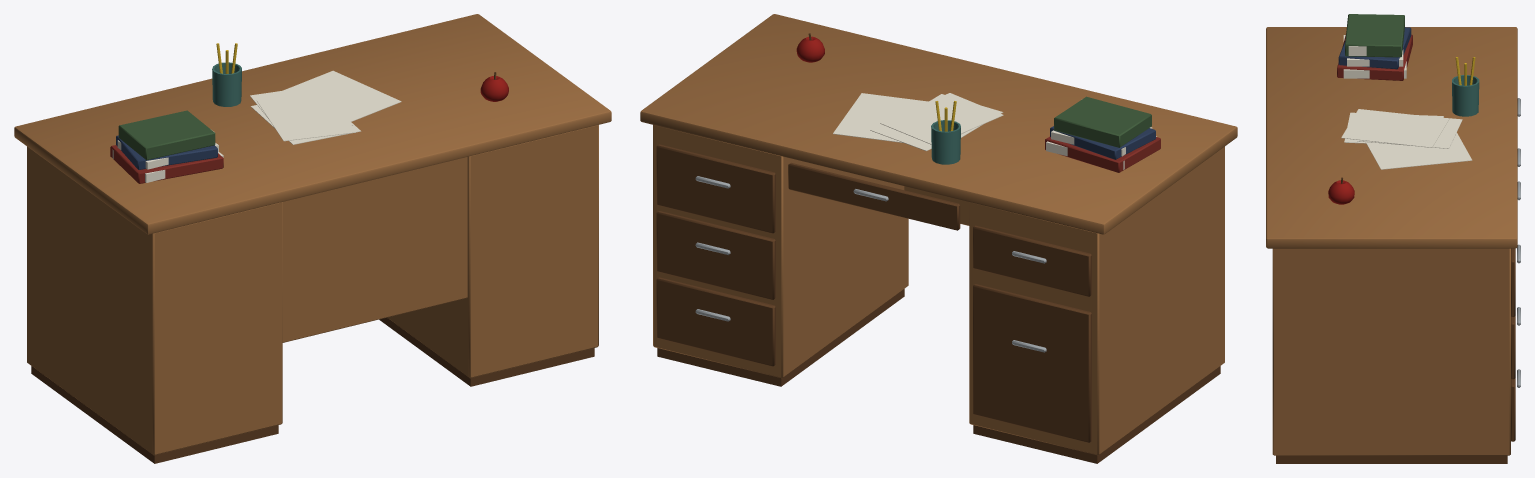
Rendered from teacher_desk.glb.
3 renders of one model, left to right at view 1: azimuth 30°, elevation 25°; view 2: azimuth 150°, elevation 25°; view 3: azimuth 270°, elevation 25°, orthographic. The views are drawn at different scales.
Parts seen in each view (by area): view 1: TeacherDesk; view 2: TeacherDesk; view 3: TeacherDesk.
Boxes of the visible parts, <box> form: TeacherDesk: <box>14,14,611,463</box>; TeacherDesk: <box>640,14,1237,463</box>; TeacherDesk: <box>1266,14,1520,463</box>.
Size of the model in its own units: 1.5 by 0.9305 by 0.76.
